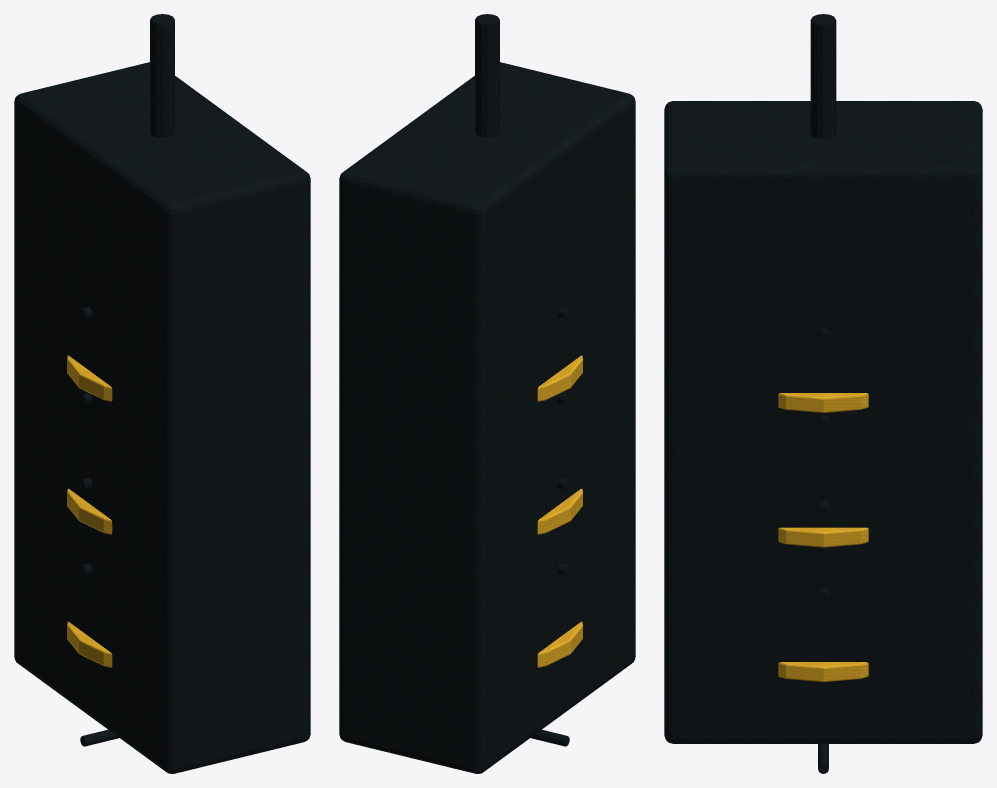
File: STW_INDUSTRIAL_YARD_01_beacon.fbx
3 renders of one model, left to right at view 1: azimuth 30°, elevation 25°; view 2: azimuth 150°, elevation 25°; view 3: azimuth 270°, elevation 25°, orthographic.
Visible parts, largest first — view 1: outside_factory_tower, IY_BeaconAntenna, IY_BeaconRing_00, IY_BeaconRing_02, IY_BeaconRing_01; view 2: outside_factory_tower, IY_BeaconAntenna, IY_BeaconRing_00, IY_BeaconRing_02, IY_BeaconRing_01; view 3: outside_factory_tower, IY_BeaconAntenna, IY_BeaconRing_01, IY_BeaconRing_00, IY_BeaconRing_02.
Part boxes in pixels (box(x1,y1,x2,y2)): outside_factory_tower: box(14, 62, 310, 773); IY_BeaconAntenna: box(150, 14, 174, 137); IY_BeaconRing_00: box(67, 621, 112, 667); IY_BeaconRing_02: box(67, 355, 112, 401); IY_BeaconRing_01: box(67, 488, 112, 534); outside_factory_tower: box(339, 62, 635, 773); IY_BeaconAntenna: box(475, 14, 499, 137); IY_BeaconRing_00: box(537, 621, 582, 667); IY_BeaconRing_02: box(537, 355, 582, 401); IY_BeaconRing_01: box(537, 488, 582, 534); outside_factory_tower: box(664, 101, 982, 743); IY_BeaconAntenna: box(810, 14, 836, 139); IY_BeaconRing_01: box(778, 527, 868, 547); IY_BeaconRing_00: box(778, 662, 868, 681); IY_BeaconRing_02: box(778, 393, 868, 412).
Bounding box in the file's own units: 92 × 150 × 373.
2 materials, 2 textured.
